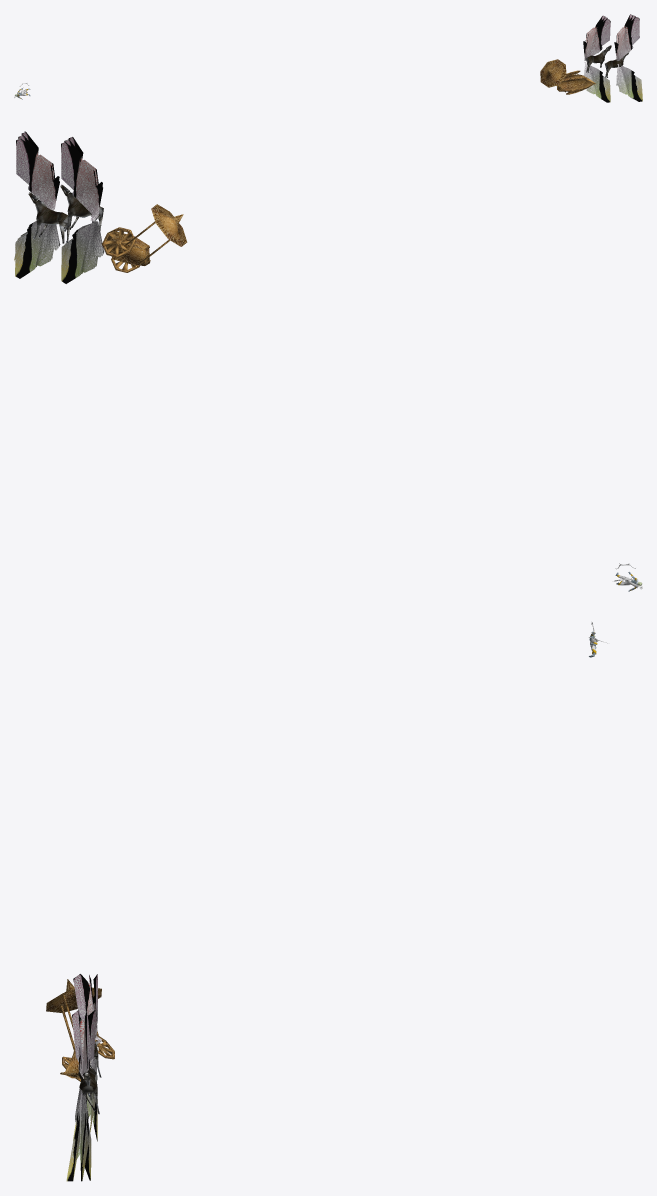
Rendered from rama_001017.obj.
3 views of the same model, one above another, from view 1: azimuth 30°, elevation 25°; view 2: azimuth 150°, elevation 25°; view 3: azimuth 270°, elevation 25° (orthographic). The views are drawn at different scales.
Parts seen in each view (by area): view 1: wings.001_Plane.000, wings_Plane.001, umbrella_Sphere, chariot_Cube.001, Horse.001_objHorse_0.006, Horse.000_objHorse_0.005; view 2: wings_Plane.001, wings.001_Plane.000, umbrella_Sphere, Horse.000_objHorse_0.005, chariot_Cube.001; view 3: wings.001_Plane.000, wings_Plane.001, umbrella_Sphere.
Boxes of the visible parts, x1,y1,x2,y2 form: wings.001_Plane.000: [614, 14, 642, 101]; wings_Plane.001: [583, 15, 610, 102]; umbrella_Sphere: [540, 59, 572, 92]; chariot_Cube.001: [557, 74, 595, 91]; Horse.001_objHorse_0.006: [586, 45, 611, 72]; Horse.000_objHorse_0.005: [605, 52, 628, 77]; wings_Plane.001: [61, 137, 104, 283]; wings.001_Plane.000: [14, 131, 60, 278]; umbrella_Sphere: [125, 204, 187, 264]; Horse.000_objHorse_0.005: [28, 192, 71, 243]; chariot_Cube.001: [105, 232, 150, 265]; wings.001_Plane.000: [66, 1010, 96, 1181]; wings_Plane.001: [73, 974, 101, 1141]; umbrella_Sphere: [46, 979, 101, 1049].
Bounding box in the file's own units: 87.29 × 14.94 × 42.79.
